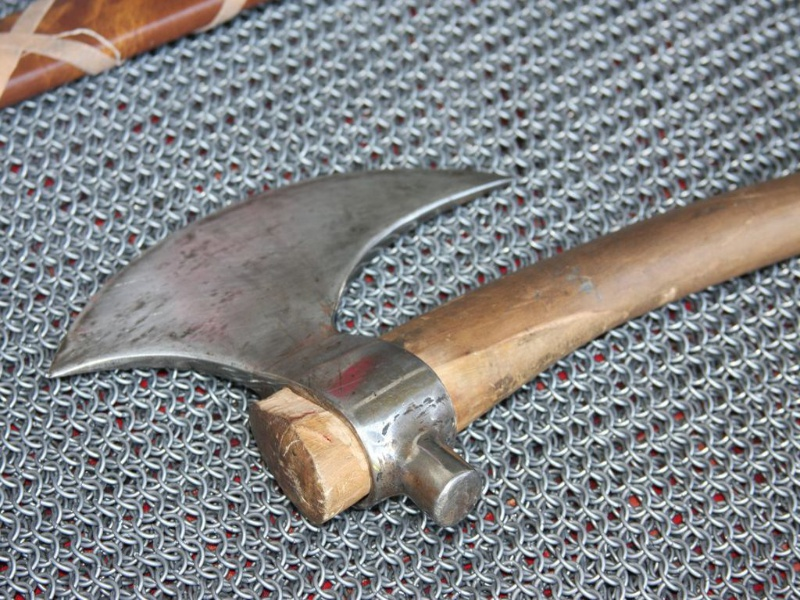axe: (43, 161, 528, 538)
